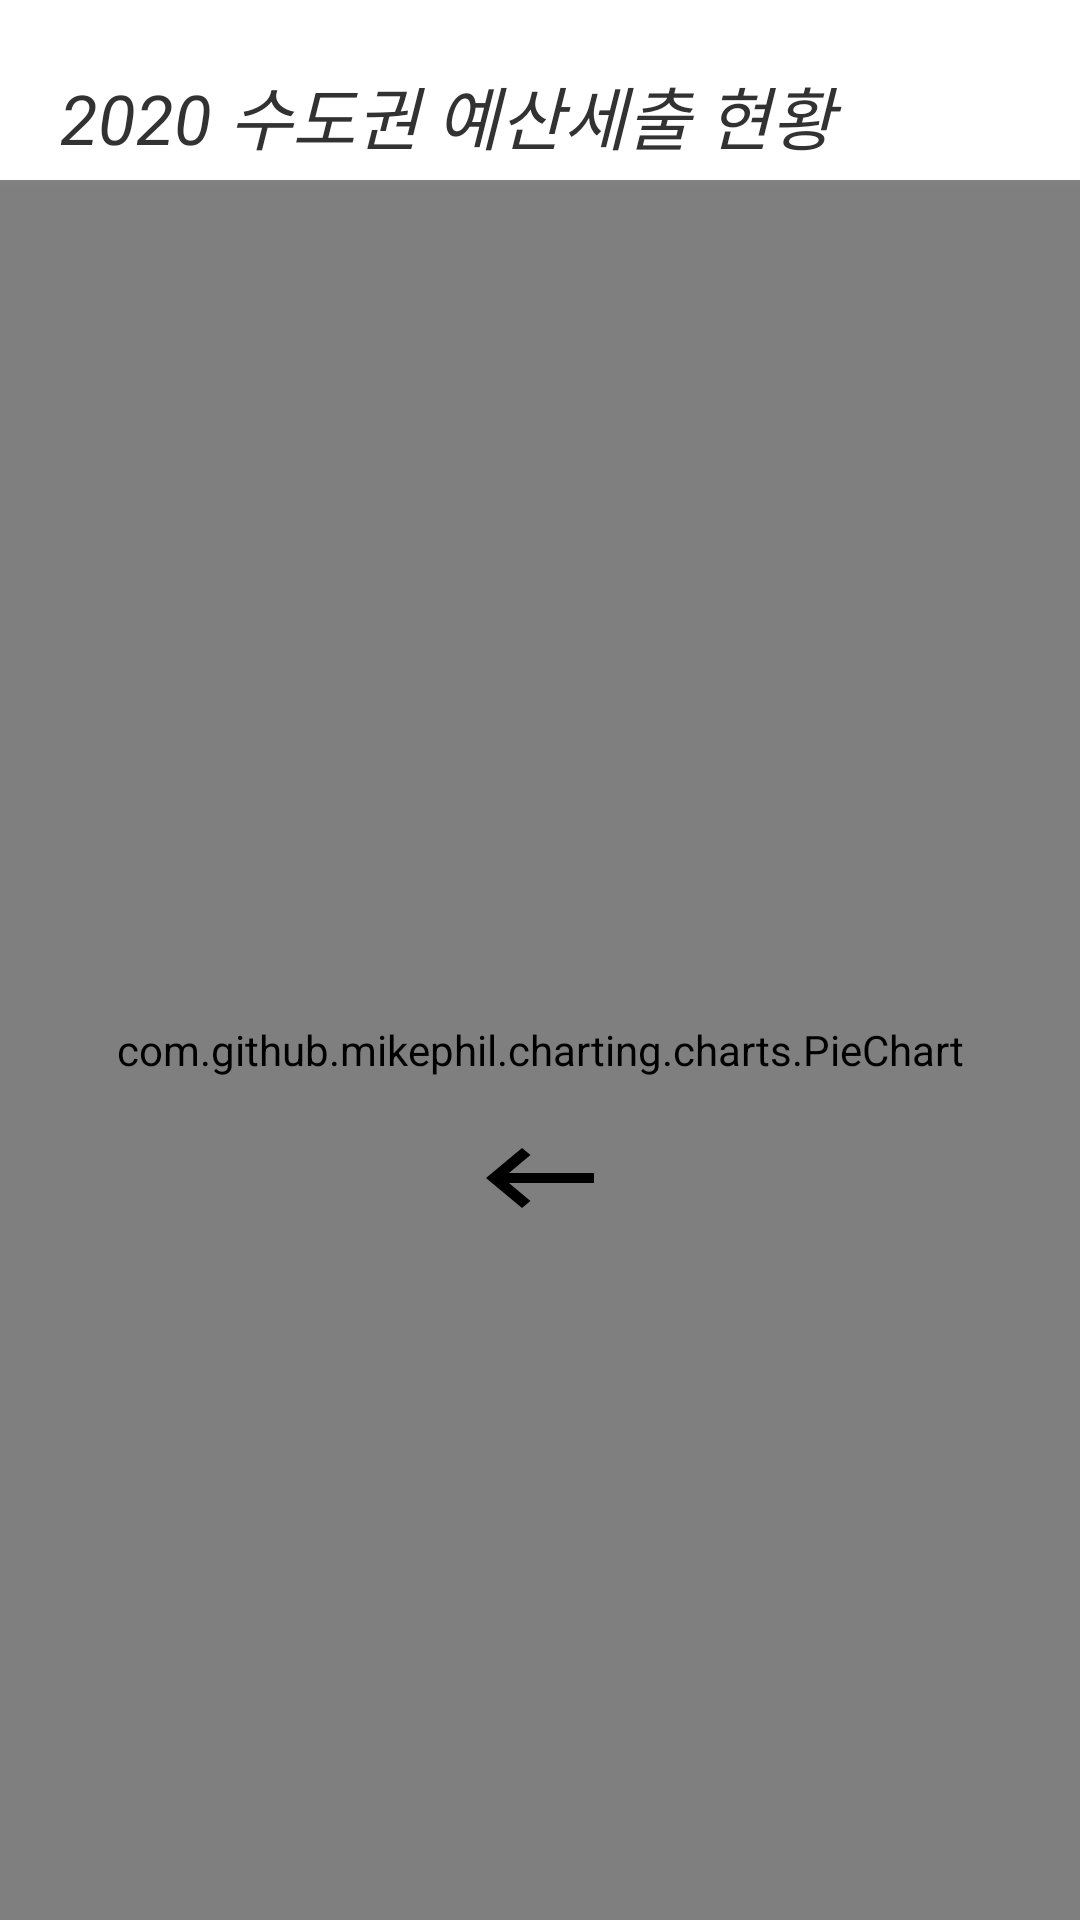

Screen size 1080w x 1920h. Icon name, then its box in pixels as {"left": x1, "top": y1, "right": x2, "bottom": y2}:
chart back: {"left": 486, "top": 1148, "right": 594, "bottom": 1208}
